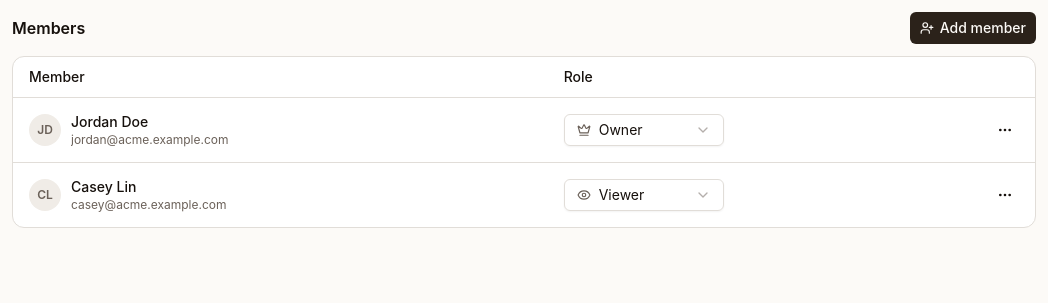
Test: MembershipEditor › surfaces the last_owner typed error inline on a failed role change
Expected: the number of rows with test id "admin-group-member-row" is 2, [13,97,1035,162]; [13,162,1035,226]
Click the dropdown with test id "admin-group-member-role" at (644, 130), box [564,114,724,146]
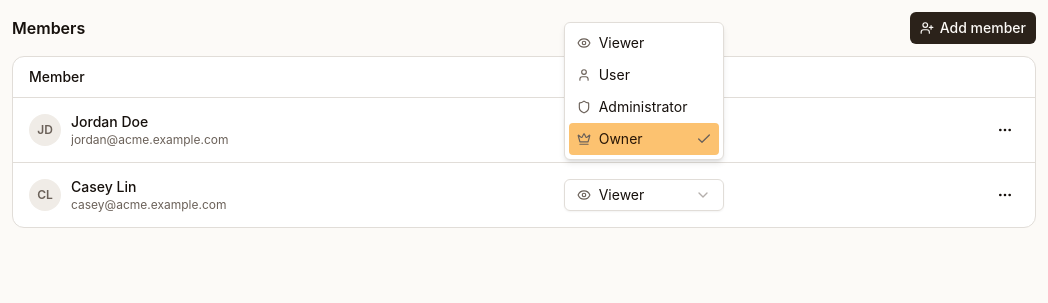
Click the option "Viewer" at (610, 42), box [577,34,644,51]
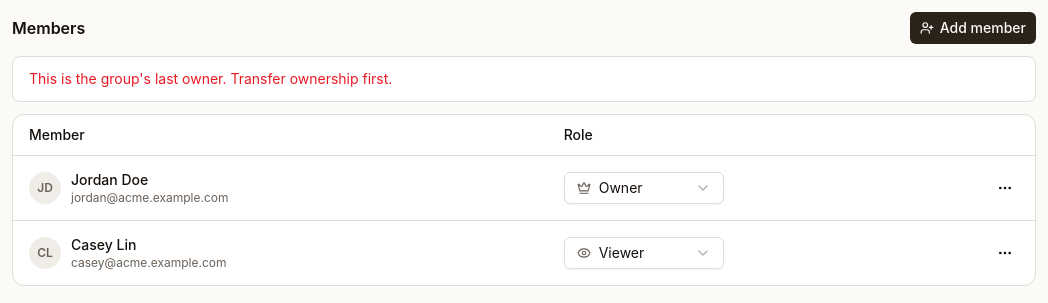
Now the message with test id "admin-group-members-error" shows "Transfer ownership first", box [29,70,392,87]
